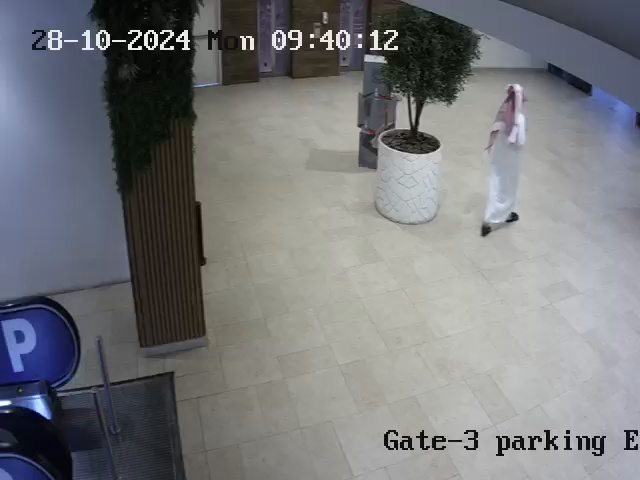male: (474, 73, 532, 242)
